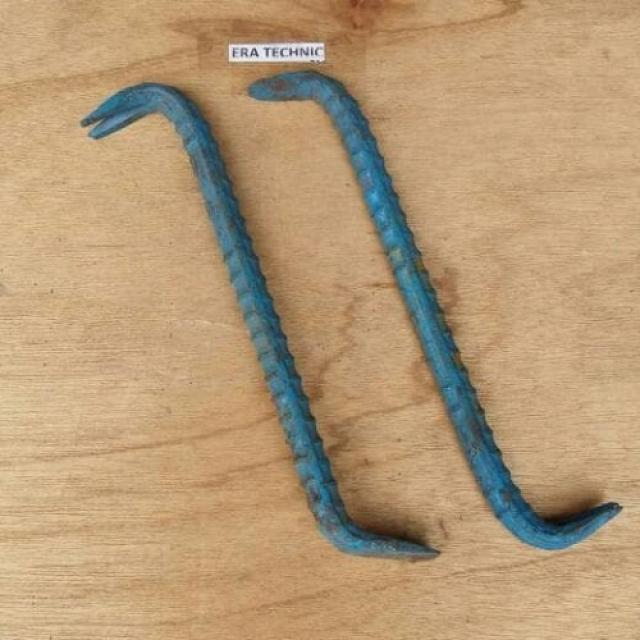Linggis: (81, 81, 441, 561)
